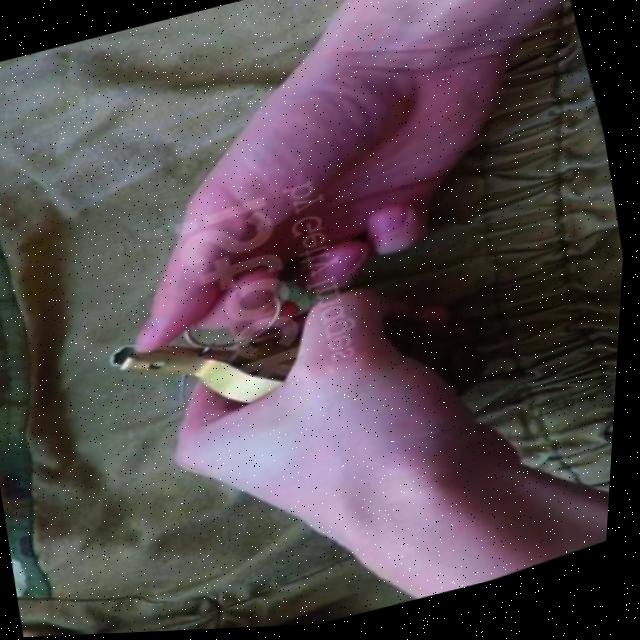grenade: (95, 231, 507, 512)
